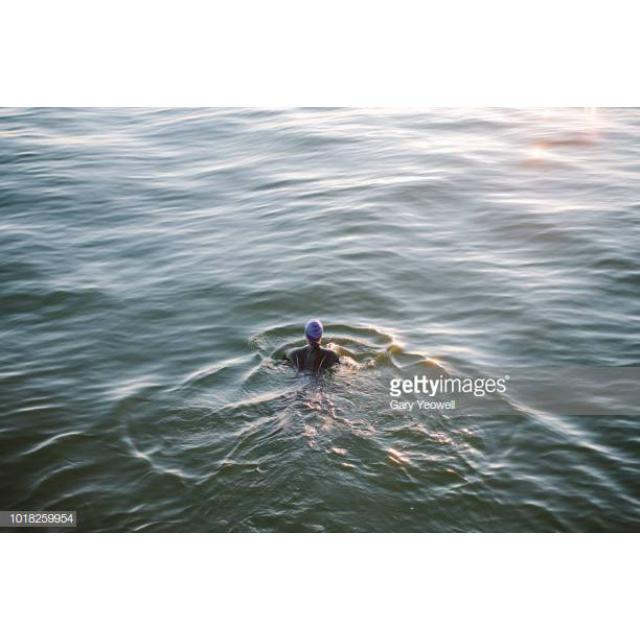human: (280, 319, 345, 382)
